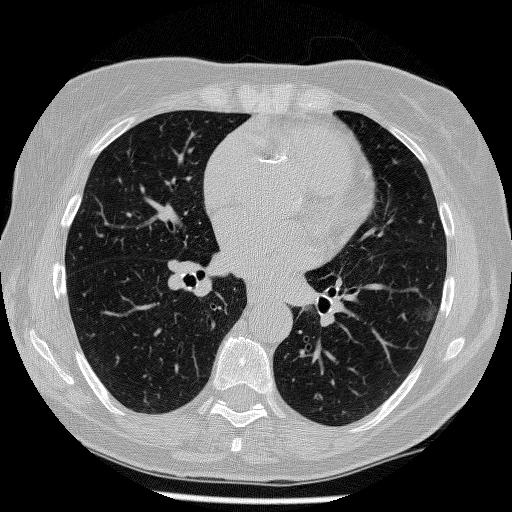nodule: (416, 302, 438, 324)
